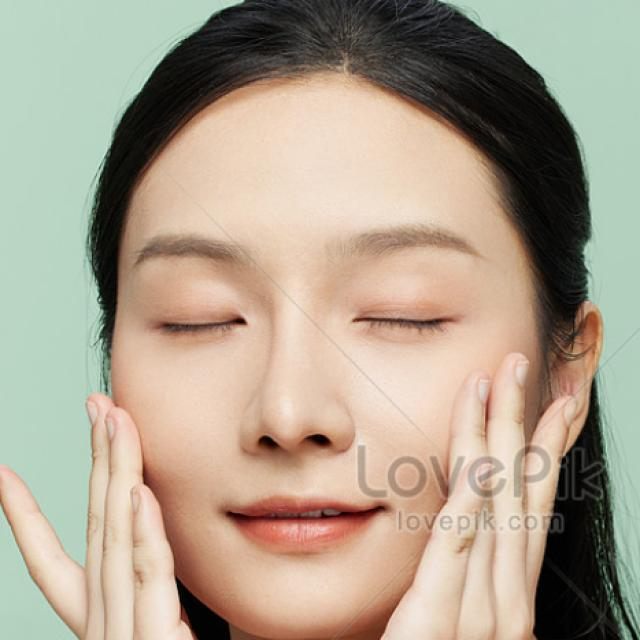close: (324, 215, 502, 354), (115, 222, 279, 362)
